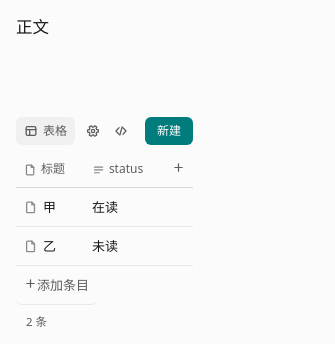
Test: database 视图在编辑器里 › 点一个单元格要能进编辑态
Click the button with class "dbview-cell" showing "在读".
click(124, 207)  # box 84,188 -> 164,226
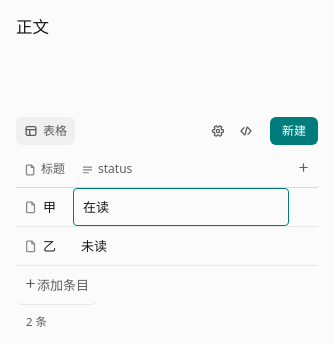
Expected: the field with class "dbview-input" is shown, 73,188 -> 289,226
